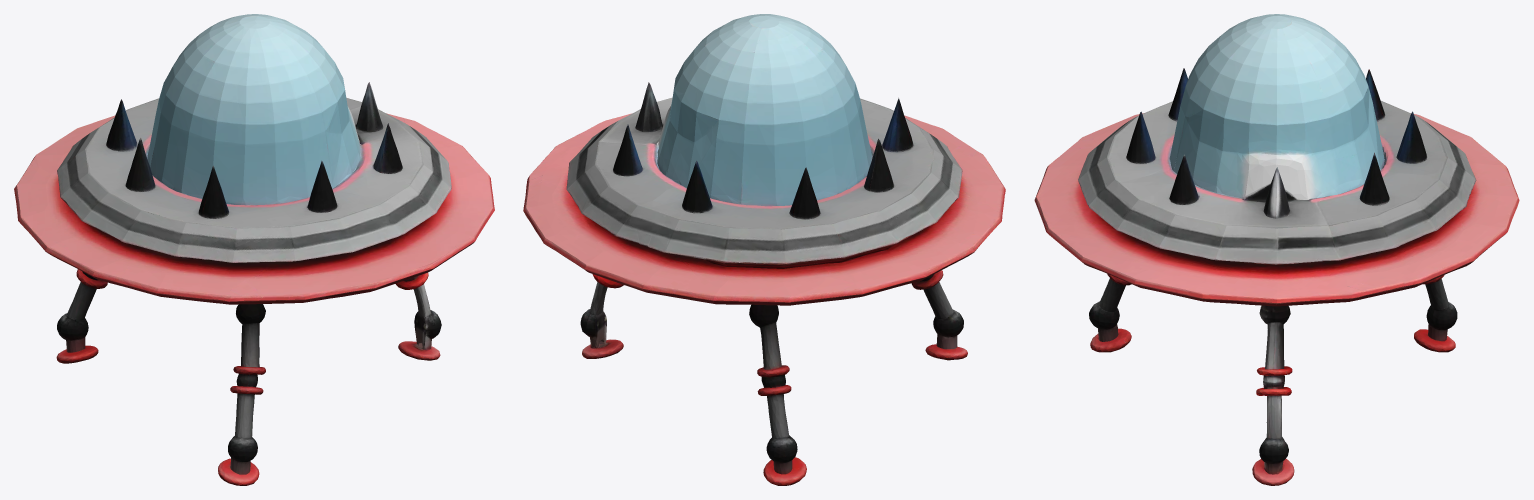
The model's file is nano_t01.glb.
The picture shows the model from 3 angles, left to right: view 1: azimuth 30°, elevation 25°; view 2: azimuth 150°, elevation 25°; view 3: azimuth 270°, elevation 25°; orthographic projection.
Parts seen in each view (by area): view 1: geometry_0; view 2: geometry_0; view 3: geometry_0.
Boxes of the visible parts, x1=… form: geometry_0: x1=14, y1=14, x2=494, y2=485; geometry_0: x1=523, y1=14, x2=1005, y2=485; geometry_0: x1=1034, y1=14, x2=1519, y2=485.
Bounding box in the file's own units: 2 × 1.72 × 2.
1 material, 1 textured.
